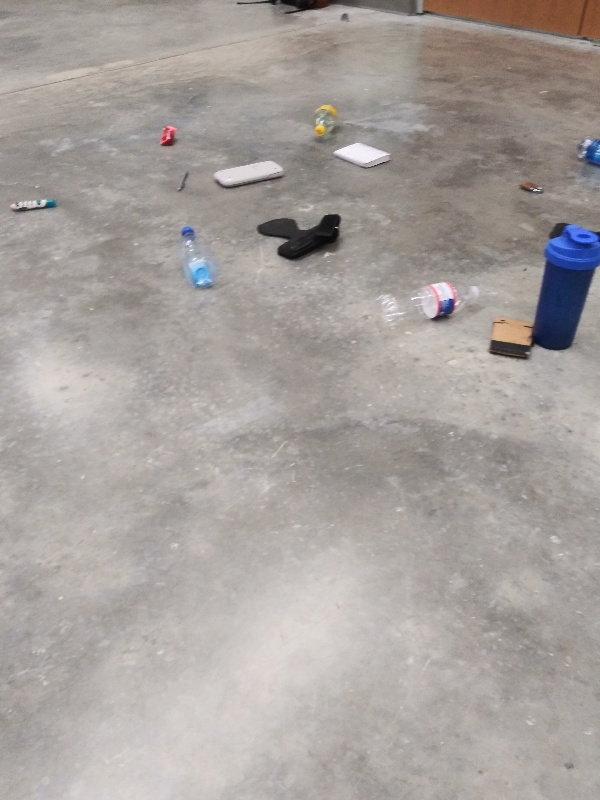bottle: (361, 278, 487, 335), (173, 221, 221, 292), (305, 98, 344, 139), (574, 134, 600, 169)
